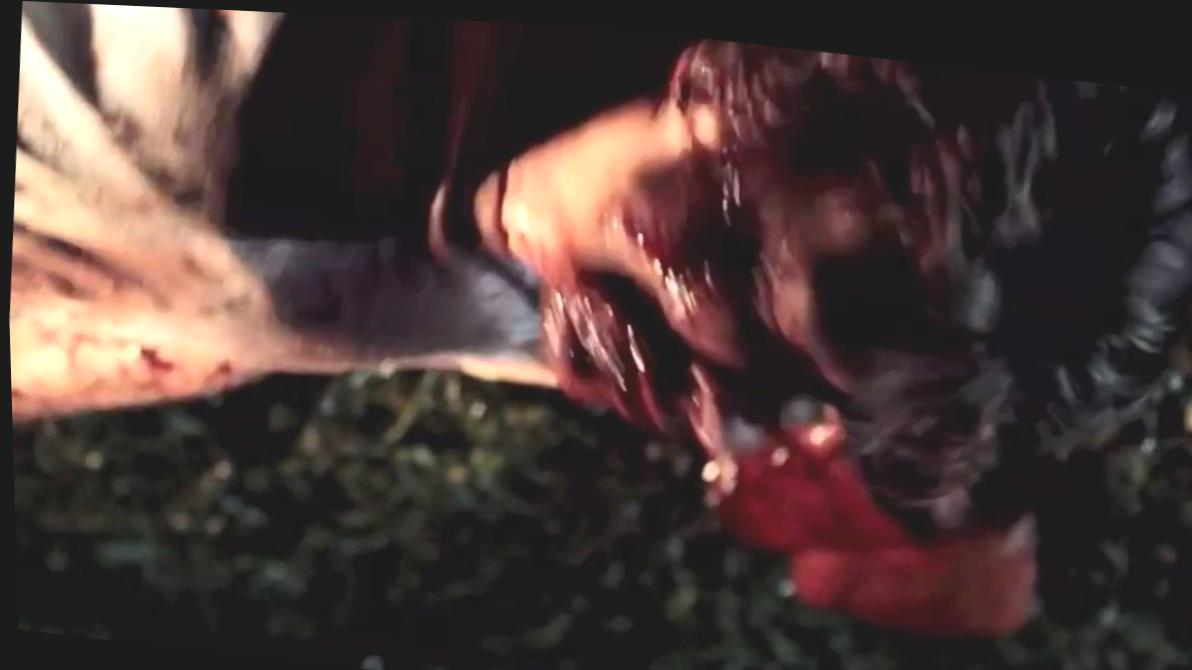Fire: (691, 399, 1041, 619), (612, 125, 772, 294), (541, 264, 690, 427)
